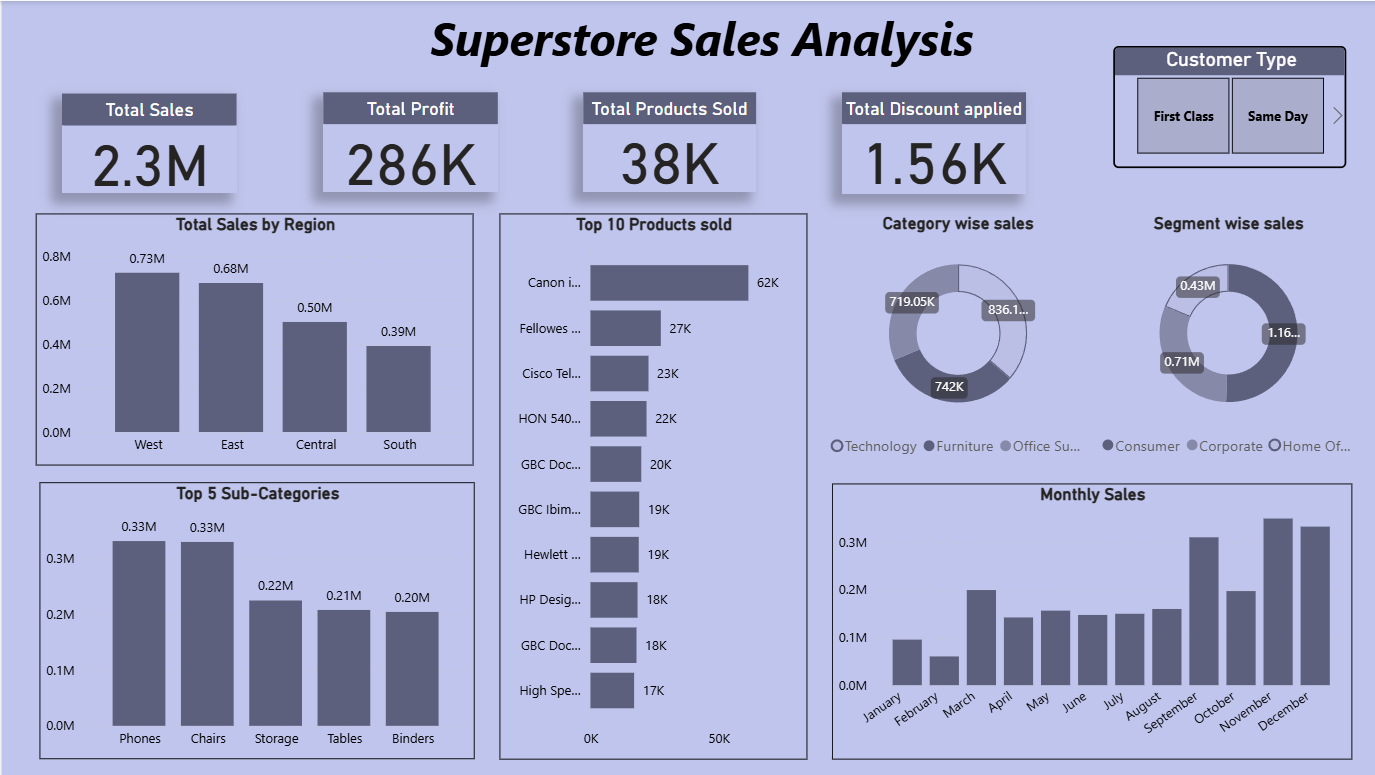

This screenshot's page, from the dashboard's own definition file:
{"tool":"powerbi","page":{"name":"Page 1","canvas":[1280,720],"ordinal":0},"visuals":[{"type":"columnChart","title":"Total Sales by Region","fields":{"Category":["Orders.Region"],"Y":["Sum(Orders.Sales)"]},"box":[31.6,197.6,407.5,234.6],"z":0},{"type":"columnChart","title":"Monthly Sales","fields":{"Category":["Orders.Order Date.Variation.Date Hierarchy.Month"],"Y":["Sum(Orders.Sales)"]},"box":[772.1,448.8,483.7,257],"z":1000},{"type":"donutChart","title":"Segment wise sales","fields":{"Category":["Orders.Segment"],"Y":["Sum(Orders.Sales)"]},"box":[1016.8,197.6,249.7,234.6],"z":2000},{"type":"columnChart","title":"Top 5 Sub-Categories","fields":{"Y":["Sum(Orders.Sales)"],"Category":["Orders.Sub-Category"]},"box":[34.3,447.3,404.8,258],"z":3000},{"type":"card","title":"Total Profit","fields":{"Values":["Sum(Orders.Profit)"]},"box":[298.4,84.6,162.8,93],"z":4000,"group":"g2"},{"type":"card","title":"Total Products Sold","fields":{"Values":["Sum(Orders.Quantity)"]},"box":[540.4,84.6,160.5,93],"z":4000,"group":"g3"},{"type":"card","title":"Total Sales","fields":{"Values":["Sum(Orders.Sales)"]},"box":[55.4,85.5,162.8,93],"z":4000,"group":"g1"},{"type":"donutChart","title":"Category wise sales","fields":{"Category":["Orders.Category"],"Y":["Sum(Orders.Sales)"]},"box":[764.9,197.3,248.8,235.2],"z":4000},{"type":"card","title":"Total Discount applied","fields":{"Values":["Sum(Orders.Discount)"]},"box":[781.4,84.6,171.1,94.3],"z":5000},{"type":"clusteredBarChart","title":"Top 10 Products sold","fields":{"Category":["Orders.Product Name"],"Y":["Sum(Orders.Sales)"]},"box":[462.8,197.7,286,508.1],"z":6000},{"type":"textbox","box":[384.9,0,532.6,68.6],"z":7000},{"type":"group","id":"g1","title":"Group 1","box":[55.4,85.5,163.3,94.3],"z":8000},{"type":"group","id":"g2","title":"Group 1","box":[298.4,84.6,164.3,94.3],"z":9000},{"type":"group","id":"g3","title":"Group 1","box":[540.4,84.6,160.4,94.3],"z":10000},{"type":"slicer","title":"Customer Type","fields":{"Values":["Orders.Ship Mode"]},"box":[1033.2,41.8,216.7,113.7],"z":11000}]}

Visuals, with their boxes in screenshot pixels (x1, y1, x2, y2), scaled from the page's 1280x720 canvas onto the 1375x775 screenshot:
"Total Sales by Region" columnChart: {"x1": 34, "y1": 213, "x2": 472, "y2": 465}
"Monthly Sales" columnChart: {"x1": 829, "y1": 483, "x2": 1349, "y2": 760}
"Segment wise sales" donutChart: {"x1": 1092, "y1": 213, "x2": 1360, "y2": 465}
"Top 5 Sub-Categories" columnChart: {"x1": 37, "y1": 481, "x2": 472, "y2": 759}
"Total Profit" card: {"x1": 321, "y1": 91, "x2": 495, "y2": 191}
"Total Products Sold" card: {"x1": 581, "y1": 91, "x2": 753, "y2": 191}
"Total Sales" card: {"x1": 60, "y1": 92, "x2": 234, "y2": 192}
"Category wise sales" donutChart: {"x1": 822, "y1": 212, "x2": 1089, "y2": 466}
"Total Discount applied" card: {"x1": 839, "y1": 91, "x2": 1023, "y2": 193}
"Top 10 Products sold" clusteredBarChart: {"x1": 497, "y1": 213, "x2": 804, "y2": 760}
textbox: {"x1": 413, "y1": 0, "x2": 986, "y2": 74}
"Group 1" group: {"x1": 60, "y1": 92, "x2": 235, "y2": 194}
"Group 1" group: {"x1": 321, "y1": 91, "x2": 497, "y2": 193}
"Group 1" group: {"x1": 581, "y1": 91, "x2": 753, "y2": 193}
"Customer Type" slicer: {"x1": 1110, "y1": 45, "x2": 1343, "y2": 167}
